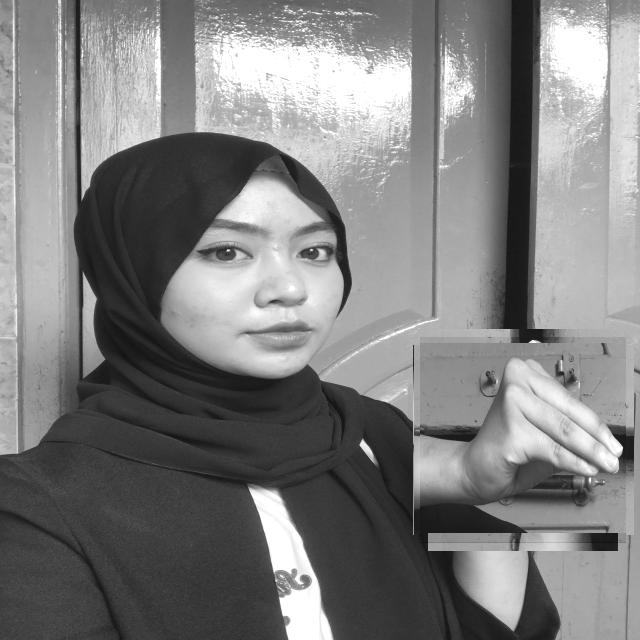kapan: (420, 338, 626, 544)
